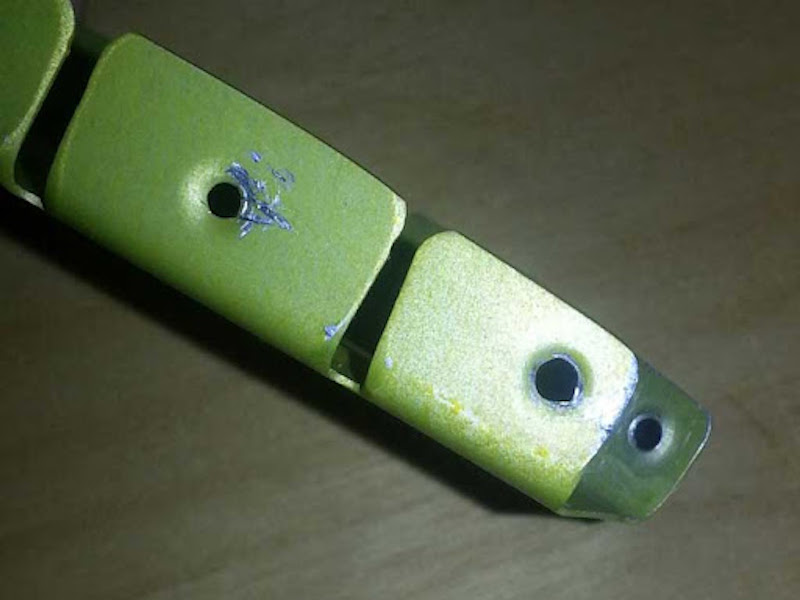hole: (529, 352, 587, 409), (202, 181, 249, 224), (627, 414, 667, 454)
